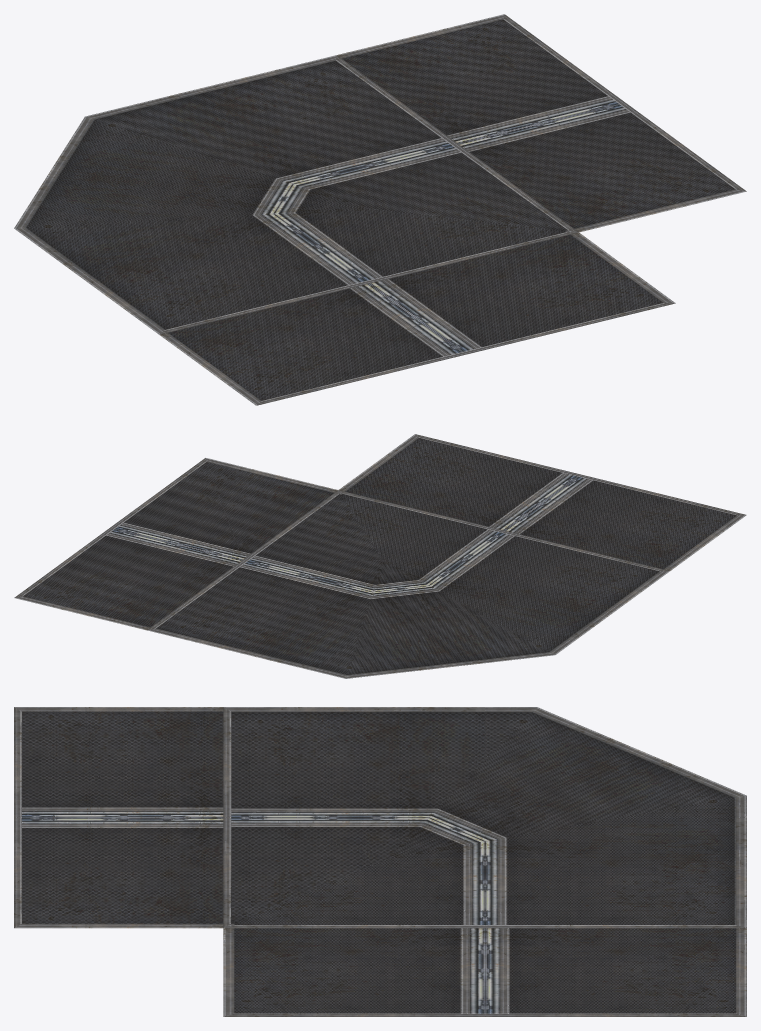
File: Floor_A_5mts_09.fbx
The picture shows the model from 3 angles, top to bottom: view 1: azimuth 30°, elevation 25°; view 2: azimuth 150°, elevation 25°; view 3: azimuth 270°, elevation 25°; orthographic projection. The views are drawn at different scales.
Parts seen in each view (by area): view 1: Floor_A_5mts_09; view 2: Floor_A_5mts_09; view 3: Floor_A_5mts_09.
Boxes of the visible parts, x1,y1,x2,y2 form: Floor_A_5mts_09: (14, 14, 746, 405); Floor_A_5mts_09: (14, 434, 746, 678); Floor_A_5mts_09: (14, 707, 746, 1016).
Bounding box in the file's own units: 700 × 0.000173 × 700.
Materials: 1 (1 with a texture image).
